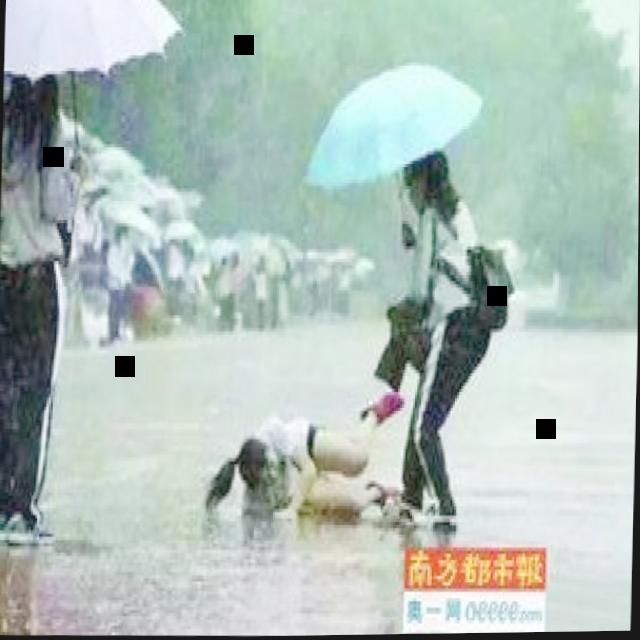Fall-Detected: (197, 354, 416, 545)
